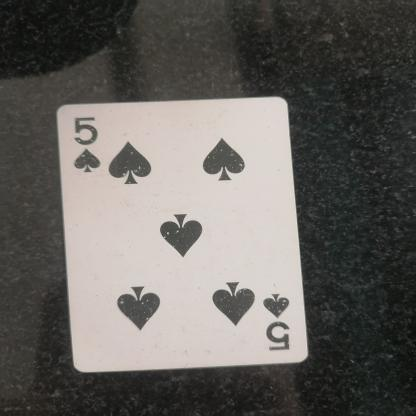5S: (253, 280, 300, 353), (65, 115, 113, 183)
